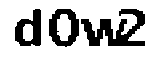0: (45, 4, 80, 51)
2: (124, 5, 149, 55)
d: (10, 6, 43, 52)
w: (83, 18, 126, 51)
